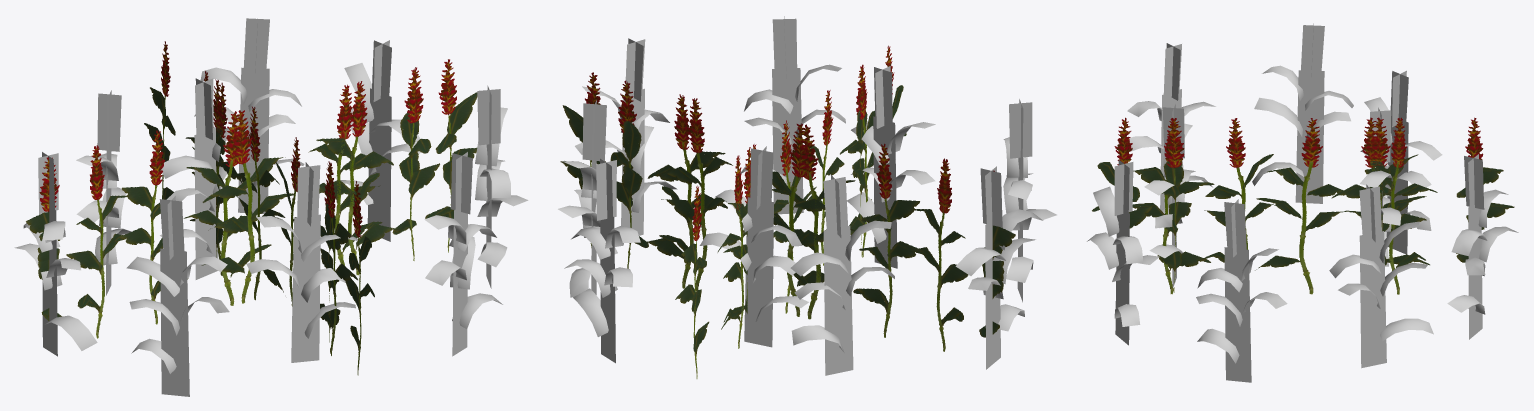
The model's file is Grass3.fbx.
3 renders of one model, left to right at view 1: azimuth 30°, elevation 25°; view 2: azimuth 150°, elevation 25°; view 3: azimuth 270°, elevation 25°, orthographic. The views are drawn at different scales.
Visible parts, largest first — view 1: LOD0, Billboard; view 2: LOD0, Billboard; view 3: LOD0, Billboard.
Part boxes in pixels (box(x1,y1,x2,y2)): LOD0: box(14, 18, 528, 396); Billboard: box(26, 41, 477, 375); LOD0: box(558, 16, 1056, 375); Billboard: box(560, 45, 1015, 378); LOD0: box(1087, 23, 1518, 382); Billboard: box(1092, 117, 1514, 294).
Size of what is drawn, in the model's own units: 342 by 137 by 301.
